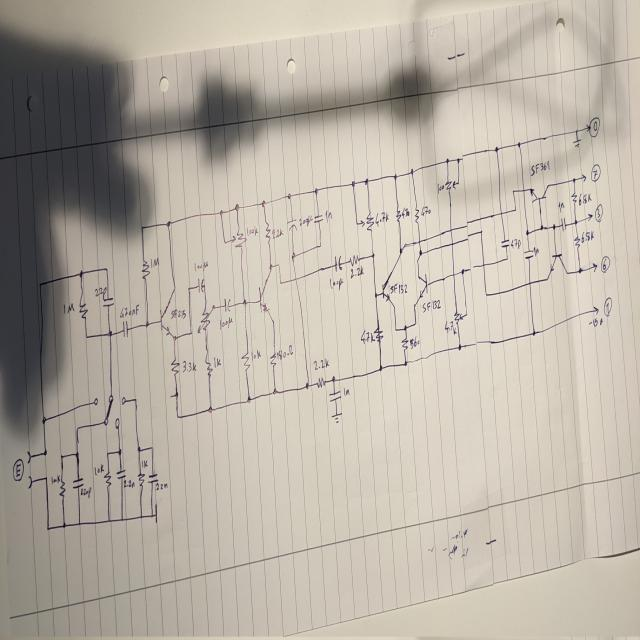capacitor: (71, 474, 85, 490), (333, 254, 344, 272), (121, 318, 129, 340), (148, 471, 158, 488), (523, 247, 536, 260), (101, 297, 115, 309), (286, 218, 298, 232), (195, 277, 205, 293), (223, 296, 232, 313), (329, 390, 341, 402), (313, 212, 323, 224), (116, 468, 126, 480), (500, 237, 510, 248), (560, 216, 566, 232)
crossover: (448, 224, 453, 233), (293, 274, 298, 282), (526, 280, 532, 286), (481, 260, 485, 268), (452, 270, 456, 278), (522, 186, 526, 194), (451, 238, 454, 248), (499, 209, 503, 216), (417, 239, 421, 245)
ground: (331, 411, 343, 424), (573, 136, 582, 150), (154, 502, 159, 524)
junction: (290, 251, 296, 261), (331, 374, 337, 384), (268, 263, 274, 273), (144, 319, 150, 328), (78, 269, 84, 278), (74, 424, 80, 433), (207, 404, 213, 413), (539, 222, 544, 232), (397, 247, 404, 254), (350, 179, 356, 187), (136, 444, 142, 452), (74, 450, 80, 458), (572, 218, 578, 226), (172, 334, 178, 342), (246, 394, 251, 403), (378, 363, 383, 372), (551, 222, 556, 231), (133, 394, 138, 403), (526, 228, 530, 239), (305, 380, 309, 390), (234, 203, 239, 211), (166, 219, 171, 227), (571, 176, 576, 184), (457, 342, 462, 350), (272, 386, 277, 394), (516, 140, 521, 148), (409, 167, 414, 175), (117, 447, 122, 455), (188, 328, 193, 336), (242, 297, 246, 306), (494, 144, 498, 153), (42, 415, 46, 424), (43, 448, 47, 457), (532, 328, 536, 337), (418, 248, 422, 257), (108, 329, 112, 338), (44, 474, 48, 483), (176, 411, 180, 420), (574, 129, 580, 135), (373, 291, 378, 298), (460, 267, 464, 275), (261, 199, 265, 207), (364, 177, 368, 185), (219, 208, 223, 216), (393, 172, 397, 180), (578, 266, 582, 274), (60, 452, 64, 460), (84, 332, 88, 340), (456, 156, 460, 164), (120, 515, 124, 523), (38, 280, 42, 288), (46, 524, 50, 532), (106, 516, 110, 524), (187, 284, 191, 292), (62, 520, 66, 528), (276, 262, 280, 270), (106, 450, 110, 458), (393, 326, 398, 332), (77, 520, 82, 526), (287, 192, 291, 199), (314, 187, 318, 194), (403, 324, 407, 331), (150, 444, 154, 451), (445, 157, 449, 164), (413, 319, 417, 326), (403, 359, 407, 366), (104, 265, 108, 272), (140, 224, 144, 231), (479, 228, 483, 235), (370, 251, 374, 258), (505, 254, 509, 261), (150, 511, 154, 518), (511, 188, 515, 194), (484, 291, 488, 297), (318, 242, 322, 248), (513, 206, 517, 212), (139, 512, 143, 518), (279, 279, 282, 285), (223, 239, 226, 244), (355, 220, 358, 225), (457, 180, 459, 185)
resistor: (196, 303, 214, 337), (359, 209, 375, 232), (230, 229, 246, 250), (77, 291, 88, 320), (452, 306, 466, 328), (140, 258, 150, 280), (262, 219, 271, 243), (204, 358, 212, 385), (444, 178, 456, 194), (170, 357, 179, 378), (241, 348, 250, 369), (374, 322, 382, 344), (103, 469, 112, 488), (349, 253, 360, 267), (58, 480, 66, 499), (569, 190, 578, 206), (395, 200, 401, 224), (316, 375, 326, 389), (401, 336, 409, 351), (138, 472, 144, 490), (270, 351, 277, 366), (574, 235, 581, 248), (414, 205, 419, 223)
switch: (90, 392, 128, 431)
terminal: (26, 473, 33, 490), (25, 449, 32, 464), (591, 260, 598, 272), (587, 210, 592, 225), (580, 171, 586, 183), (584, 123, 590, 132), (593, 305, 599, 314)
text: (530, 159, 550, 176), (12, 457, 24, 482), (120, 303, 140, 318), (276, 344, 294, 360), (422, 298, 442, 312), (389, 282, 408, 296), (360, 329, 376, 345), (576, 191, 592, 206), (312, 357, 330, 370), (182, 358, 196, 374), (170, 308, 188, 320), (219, 314, 233, 329), (329, 275, 343, 290), (602, 296, 612, 317), (375, 210, 388, 226), (580, 228, 594, 242), (298, 214, 312, 228), (349, 265, 364, 278), (588, 316, 603, 328), (590, 118, 600, 136), (590, 163, 600, 181), (271, 226, 283, 239), (62, 301, 74, 314), (194, 260, 208, 271), (154, 480, 168, 491), (445, 320, 456, 334), (601, 255, 610, 272), (123, 477, 135, 489), (94, 285, 106, 297), (510, 237, 521, 250), (408, 336, 419, 348), (420, 204, 430, 217), (80, 485, 90, 498), (251, 348, 261, 361), (401, 206, 410, 220), (595, 204, 602, 222), (436, 181, 445, 195), (246, 226, 258, 236), (50, 473, 60, 485), (150, 256, 160, 268), (212, 356, 221, 368), (557, 200, 565, 213), (94, 463, 104, 473), (325, 209, 332, 222), (343, 385, 350, 397), (533, 245, 539, 258), (140, 459, 148, 468)
transistor: (159, 288, 175, 338), (258, 269, 272, 318), (546, 252, 566, 279), (414, 272, 428, 304), (529, 182, 549, 202), (380, 277, 393, 304)
